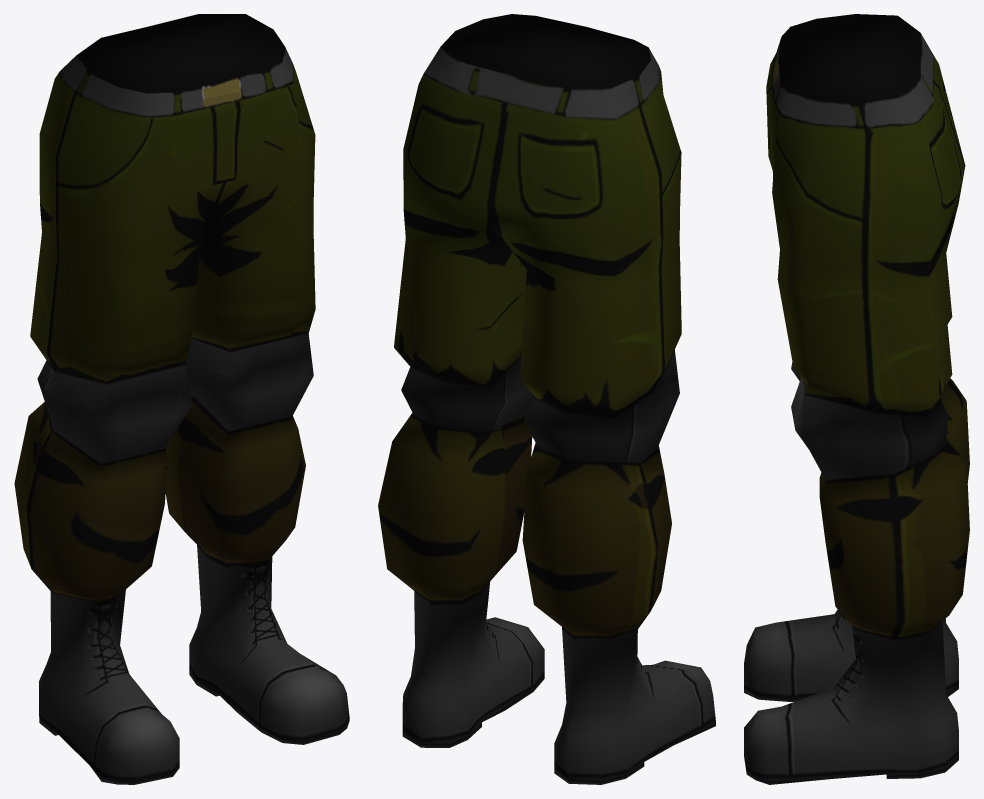
File: mod_gear_pants01.fbx
The picture shows the model from 3 angles, left to right: view 1: azimuth 30°, elevation 25°; view 2: azimuth 150°, elevation 25°; view 3: azimuth 270°, elevation 25°; orthographic projection.
Visible parts, largest first — view 1: mod_gear_pants01; view 2: mod_gear_pants01; view 3: mod_gear_pants01.
Boxes of the visible parts, <box> form: mod_gear_pants01: <box>14,14,349,784</box>; mod_gear_pants01: <box>378,14,715,784</box>; mod_gear_pants01: <box>744,14,969,784</box>.
Size of the model in its own units: 44.14 by 107 by 32.75.
